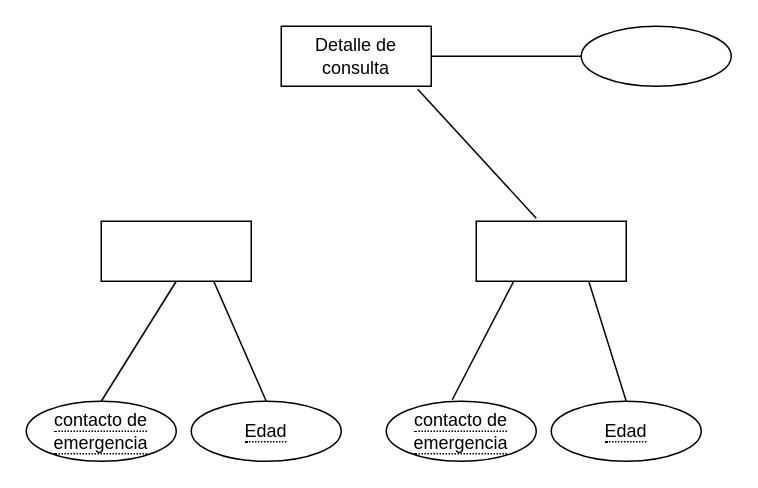
Some shapes in this 758 by 488 pixel diagram are drawn without their labels. Each missing label, with the box of its shape:
Doctor: (475, 220, 626, 281)
Nombre de paciente: (580, 25, 731, 86)
Paciente: (100, 220, 251, 281)
